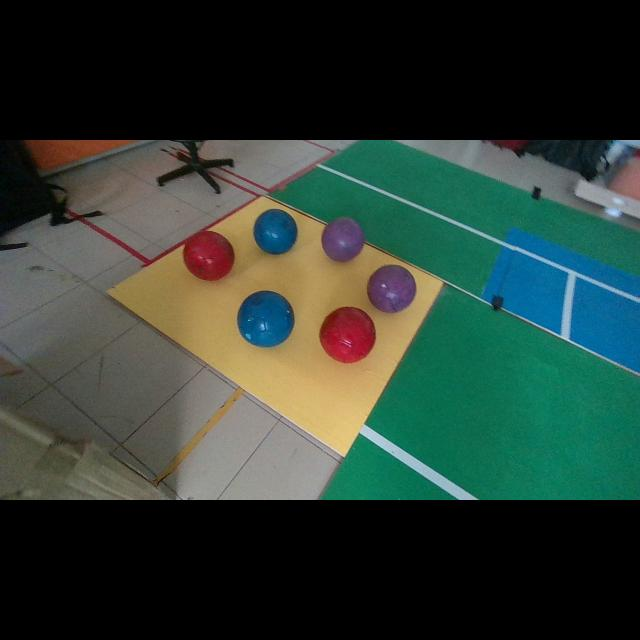B: (238, 290, 295, 348), (254, 209, 298, 254)
P: (368, 265, 416, 312), (321, 218, 365, 261)
R: (320, 306, 376, 362), (184, 231, 235, 281)
